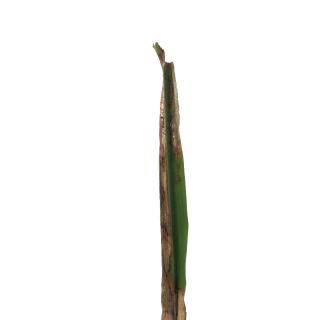Hawar-Daun: (160, 156, 179, 316), (156, 61, 184, 155), (165, 294, 188, 320)
